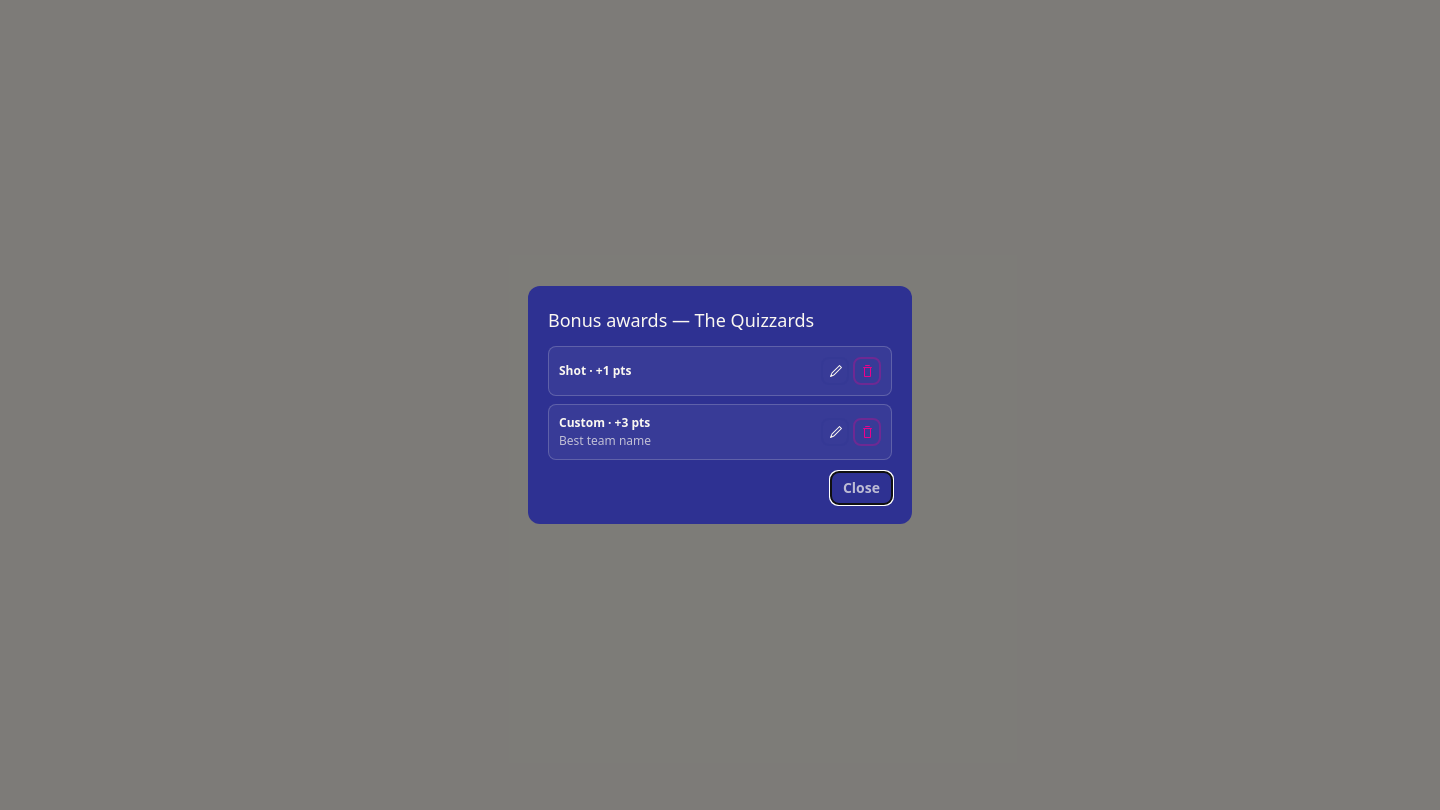
Test: BonusAwardsListModal › shows a toast when updating an award fails
Expected: the text "Shot · +1 pts" is shown, [559,363,632,379]
Click the button named "edit shot award": (835, 371) [821,357,849,385]
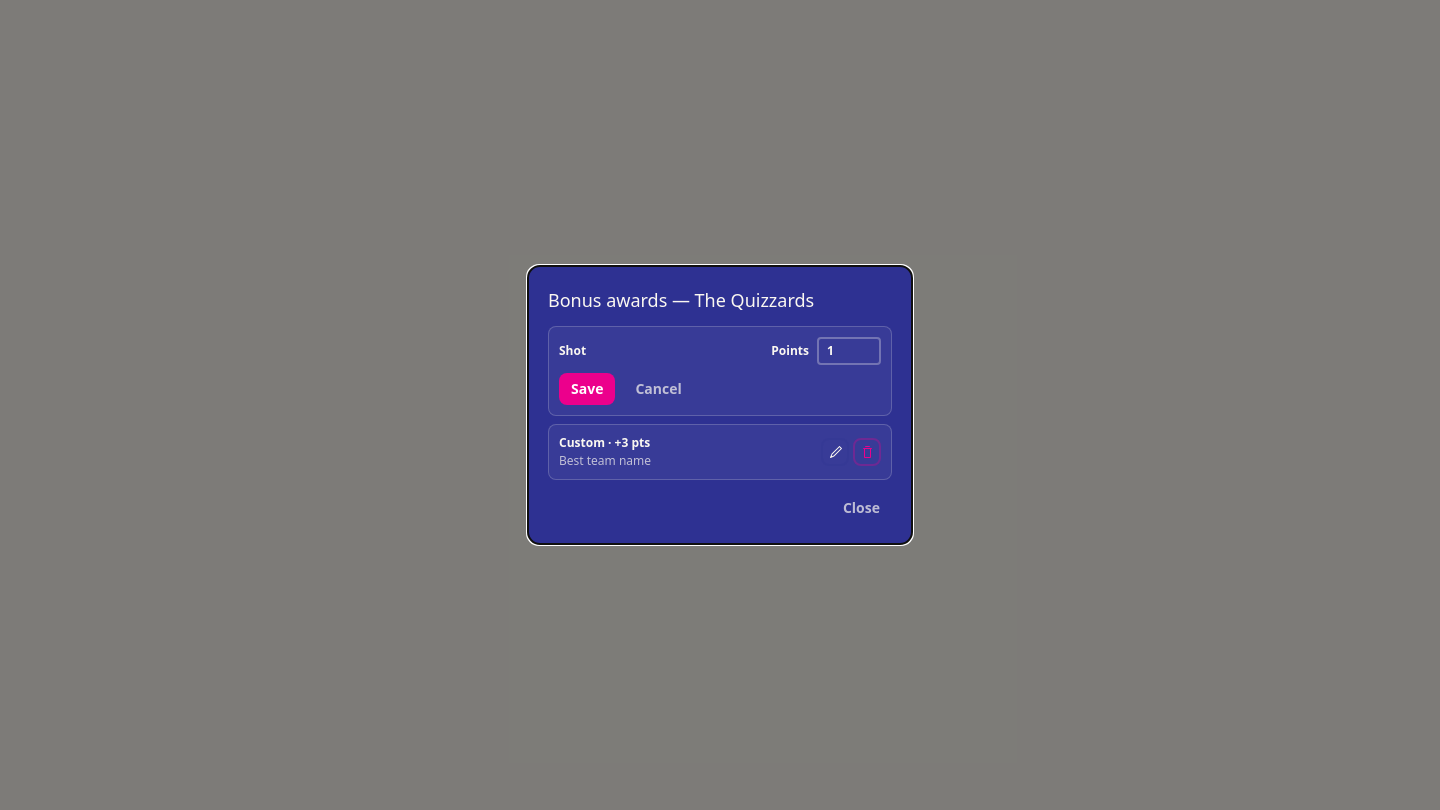
Click the button "Save": (587, 389) [559,373,615,405]
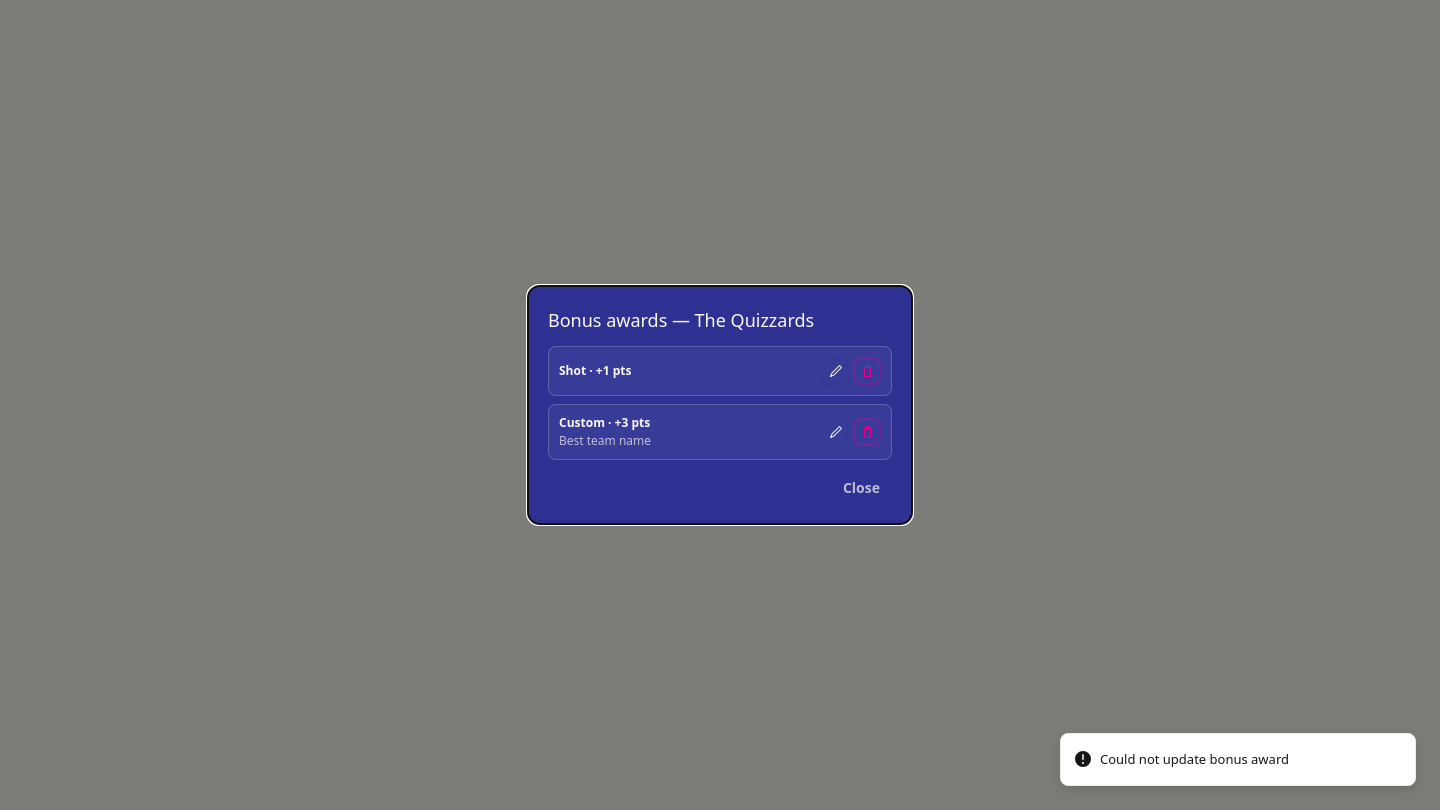
Now the text "Could not update bonus award" is shown, box [1100,750,1289,769]
